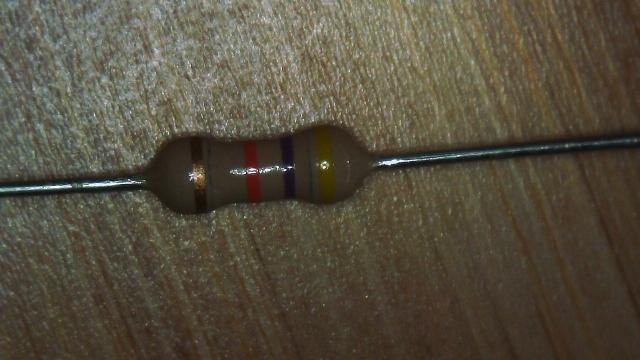gold: (191, 138, 206, 212)
orange: (244, 140, 260, 201)
resistor: (135, 103, 381, 227)
violet: (280, 136, 296, 198)
yellow: (316, 126, 335, 203)
